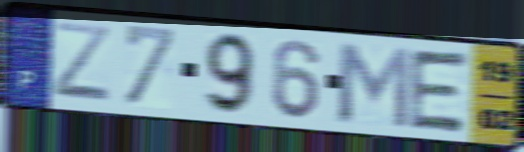6: (268, 37, 323, 121)
7: (122, 21, 177, 109)
9: (201, 30, 258, 117)
E: (405, 46, 473, 136)
M: (334, 39, 413, 132)
Z: (50, 19, 113, 106)
